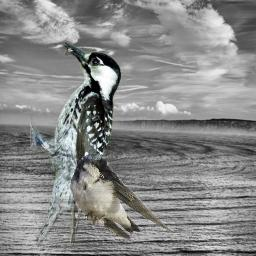Swallow: (68, 152, 175, 241)
Woodpecker: (30, 40, 121, 247)
